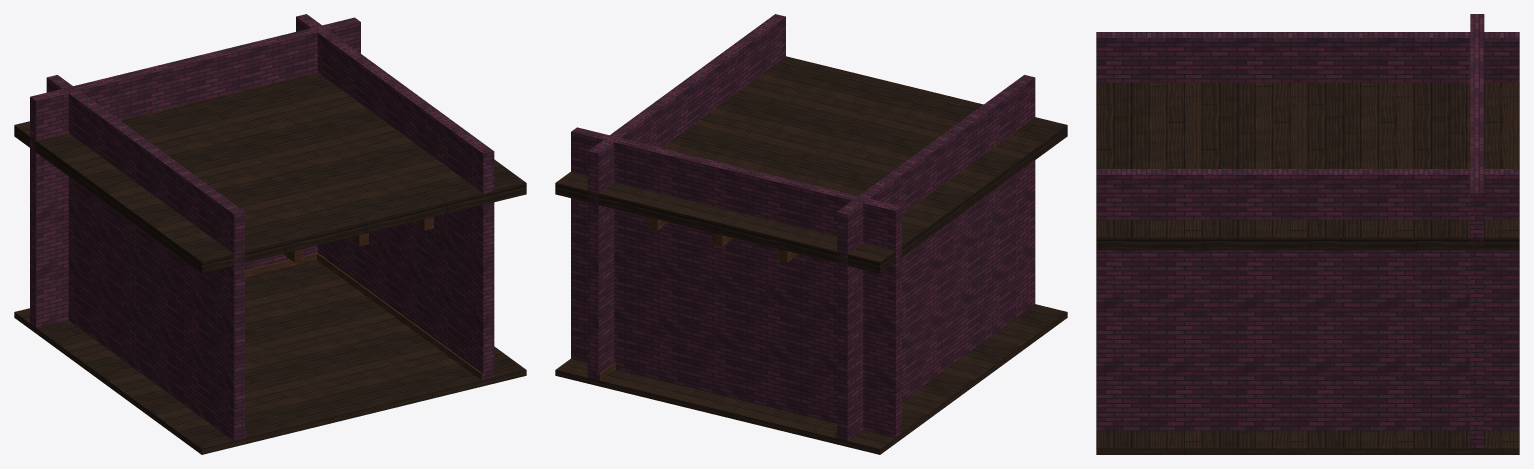
File: room.glb
The picture shows the model from 3 angles, left to right: view 1: azimuth 30°, elevation 25°; view 2: azimuth 150°, elevation 25°; view 3: azimuth 270°, elevation 25°; orthographic projection. The views are drawn at different scales.
Parts seen in each view (by area): view 1: Decke, Wand_Links, Boden, Wand_Rechts, Wand_Hinten, Leiste_Rechts, Leiste_Hinten; view 2: Wand_Hinten, Decke, Wand_Links, Wand_Rechts, Boden; view 3: Wand_Rechts, Decke, Wand_Links, Boden, Wand_Hinten.
Part boxes in pixels (bbox=[...]): Decke: bbox=[14, 72, 526, 273]; Wand_Links: bbox=[46, 75, 244, 441]; Boden: bbox=[14, 260, 526, 454]; Wand_Rechts: bbox=[296, 14, 494, 380]; Wand_Hinten: bbox=[30, 17, 360, 327]; Leiste_Rechts: bbox=[317, 252, 483, 380]; Leiste_Hinten: bbox=[245, 253, 317, 277]; Wand_Hinten: bbox=[571, 127, 901, 437]; Decke: bbox=[555, 56, 1067, 273]; Wand_Links: bbox=[837, 75, 1035, 441]; Wand_Rechts: bbox=[587, 14, 785, 380]; Boden: bbox=[555, 304, 1067, 454]; Wand_Rechts: bbox=[1096, 169, 1519, 430]; Decke: bbox=[1096, 82, 1519, 250]; Wand_Links: bbox=[1096, 32, 1519, 82]; Boden: bbox=[1096, 430, 1519, 454]; Wand_Hinten: bbox=[1470, 14, 1484, 448].
Bounding box in the file's own units: 6 × 4.1 × 6.
Materials: 8 (5 with a texture image).
